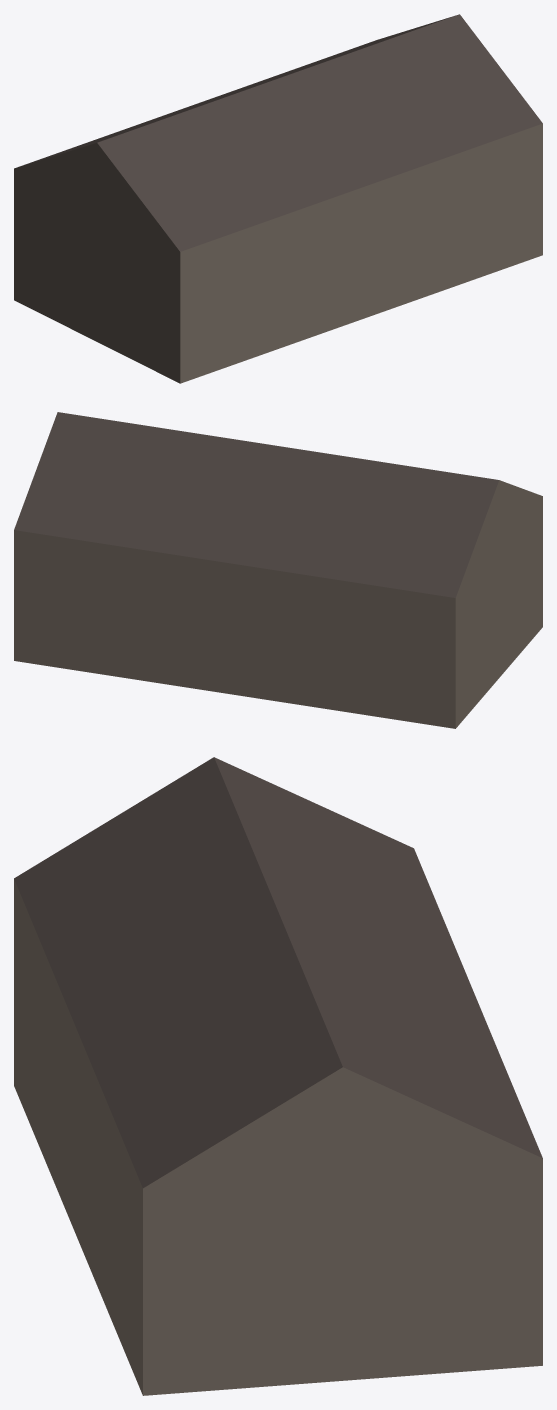
3 views of the same model, one above another, from view 1: azimuth 30°, elevation 25°; view 2: azimuth 150°, elevation 25°; view 3: azimuth 270°, elevation 25° (orthographic). The views are drawn at different scales.
Visible parts, largest first — view 1: HP-w1200766555; view 2: HP-w1200766555; view 3: HP-w1200766555.
Part boxes in pixels (x1,y1,x2,y2): HP-w1200766555: [14, 14, 542, 383]; HP-w1200766555: [14, 412, 542, 728]; HP-w1200766555: [14, 757, 542, 1395].
Size of the model in its own units: 21.11 by 9.08 by 13.87.
